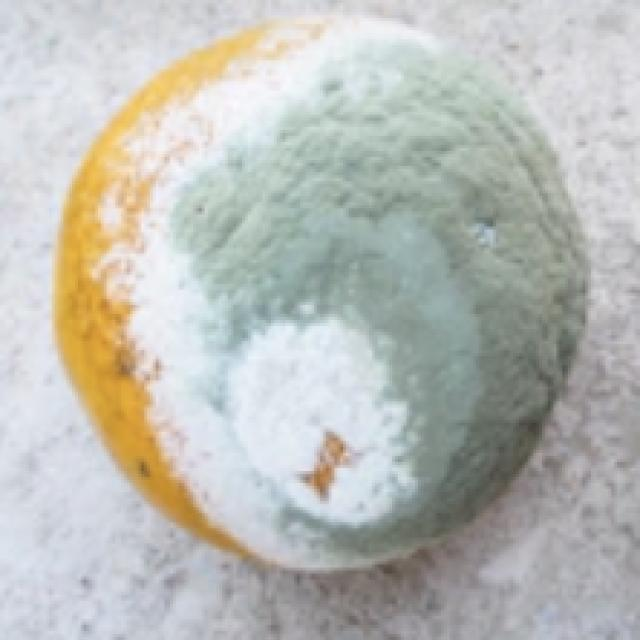sangat-busuk: (105, 19, 582, 571)
